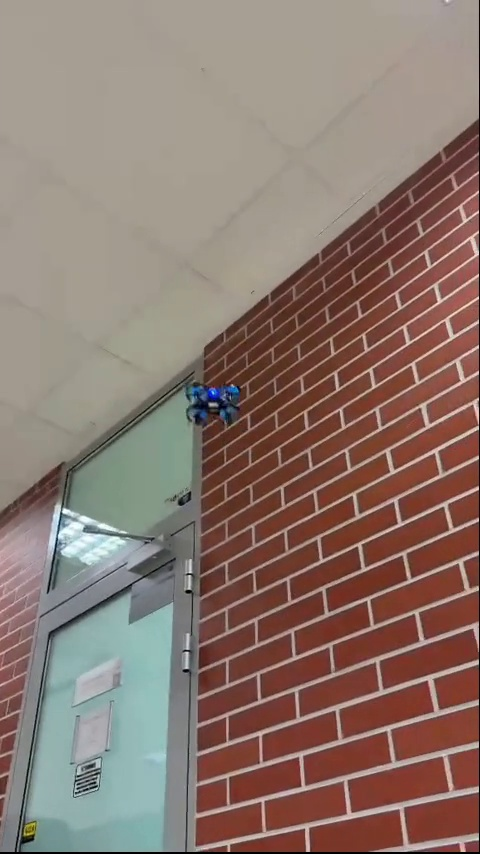drone: (183, 381, 248, 425)
